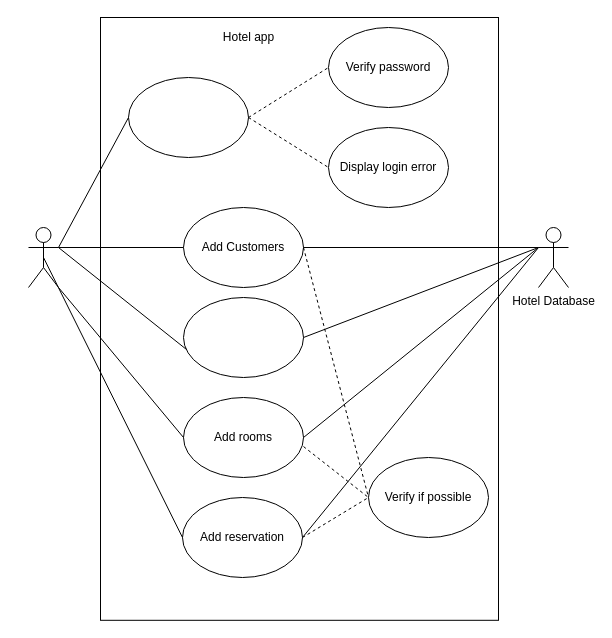
Image size: 612x638. Some labels were removed from this diagram. The centre of each missing label's shape, as x and y in pixels:
Add staff: the point at 243,337
Employee: the point at 43,257
Log In: the point at 188,117
